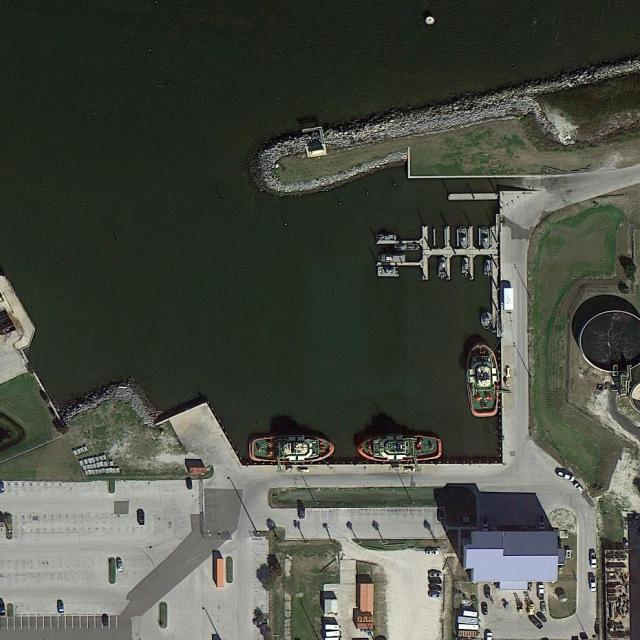Hovercraft: (465, 343, 501, 418), (248, 436, 337, 465), (355, 436, 445, 464)
Other Warship: (378, 253, 406, 263), (378, 267, 401, 277), (482, 312, 493, 330), (438, 257, 447, 279), (481, 227, 490, 248), (395, 244, 420, 251), (460, 226, 467, 248), (377, 234, 397, 241), (462, 258, 469, 278), (484, 260, 491, 278)
